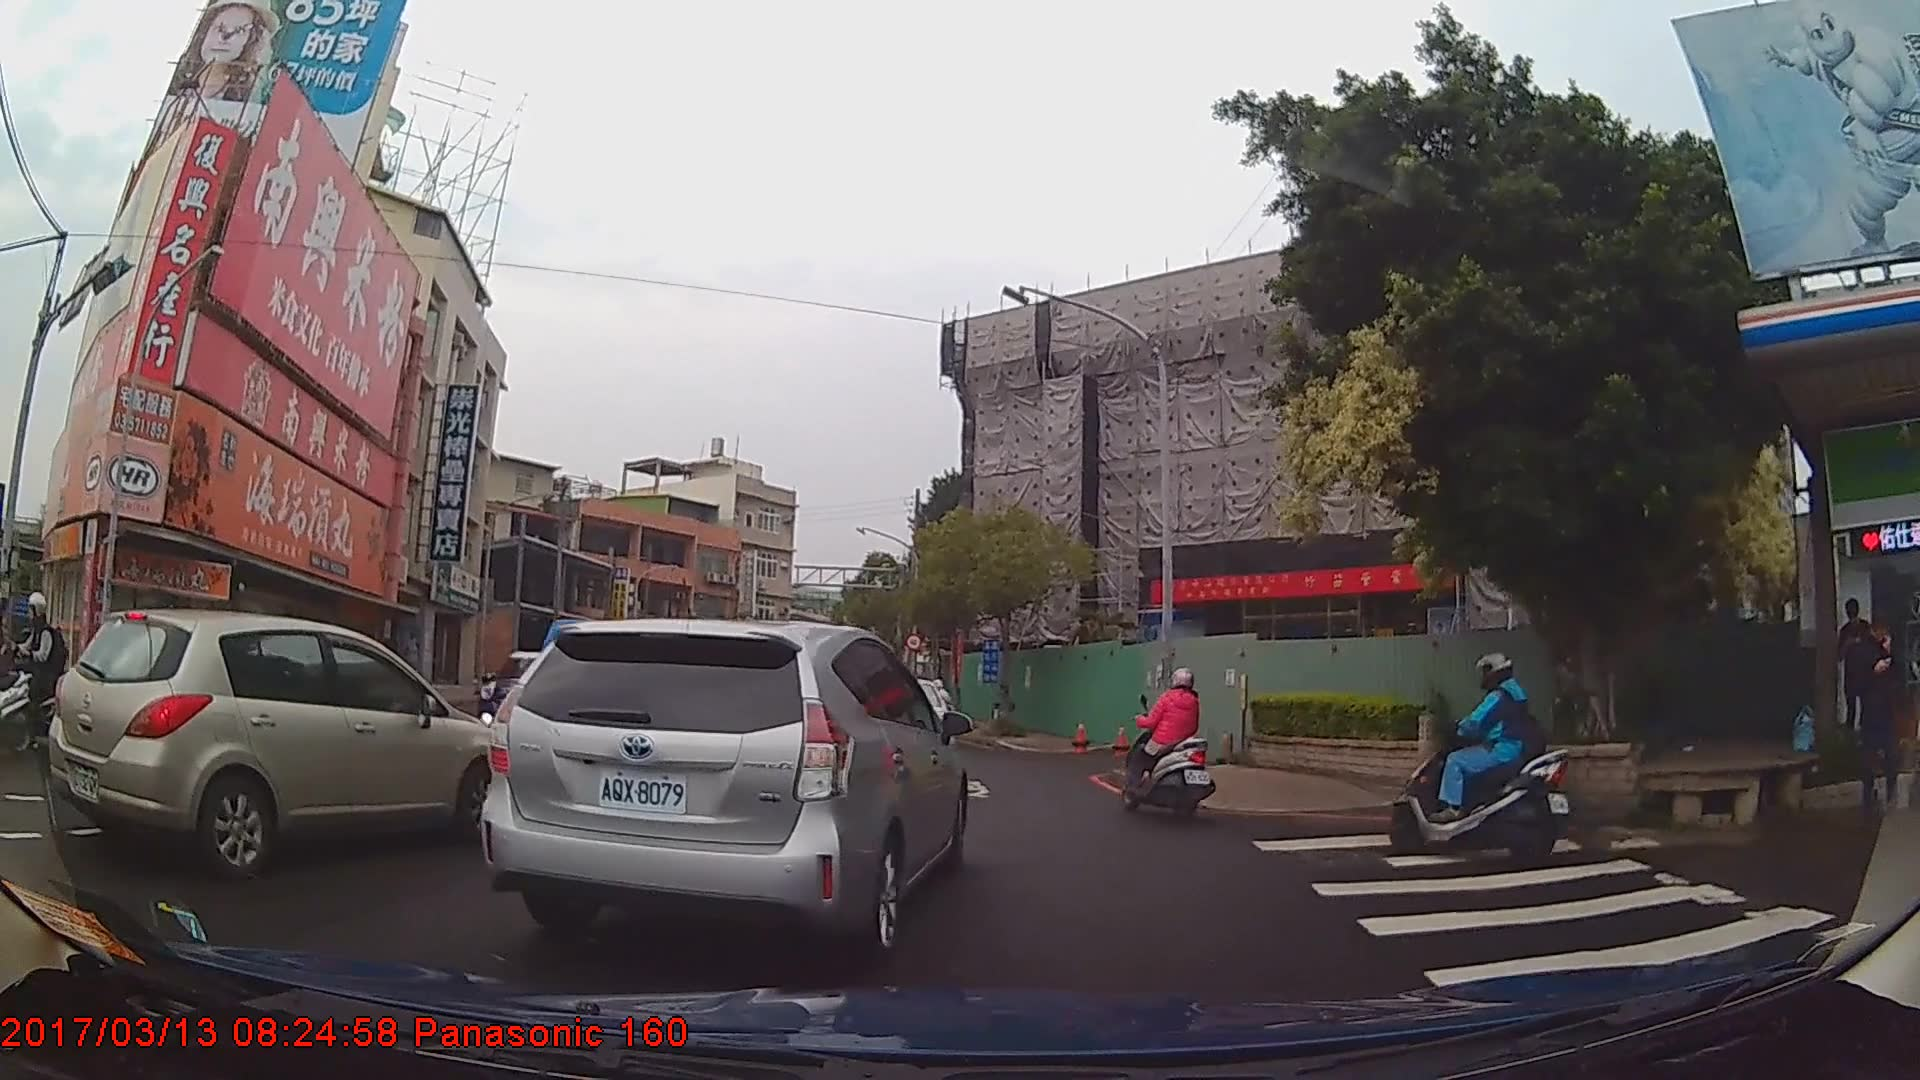pedestrian: (1849, 609, 1911, 808), (1832, 600, 1875, 737)
rider: (1396, 654, 1580, 864), (1120, 667, 1217, 824)
vehicle: (474, 620, 967, 964), (44, 608, 514, 881)
